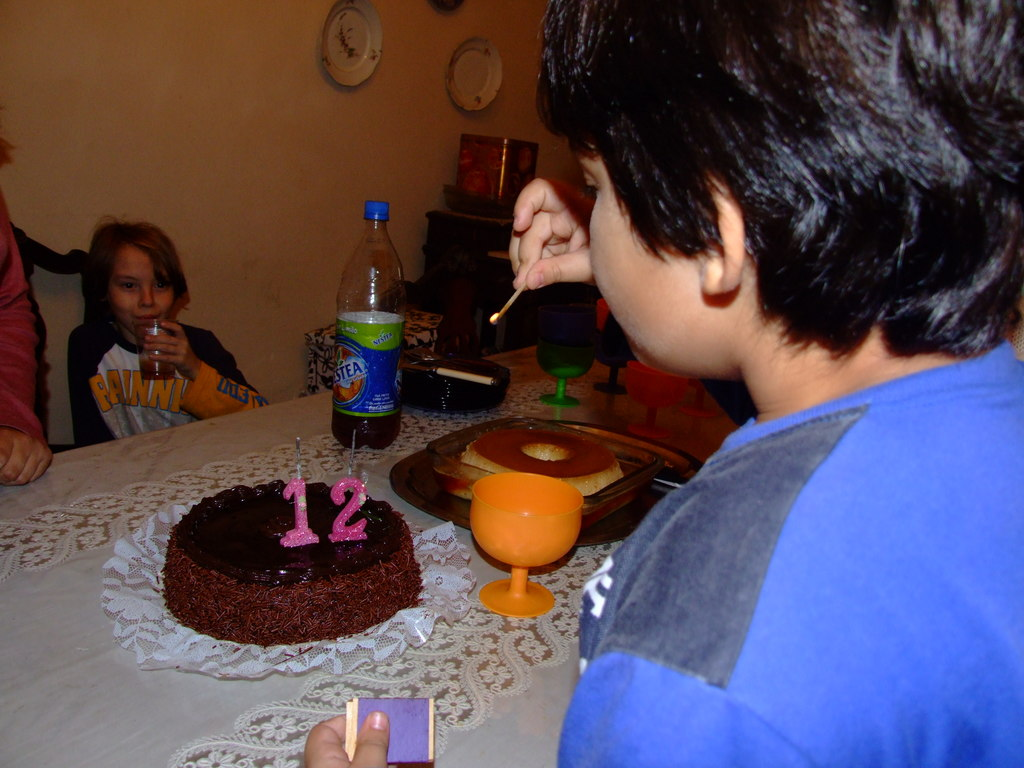cake: (166, 479, 422, 645)
